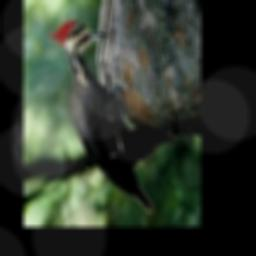Woodpecker: (49, 21, 155, 212)
